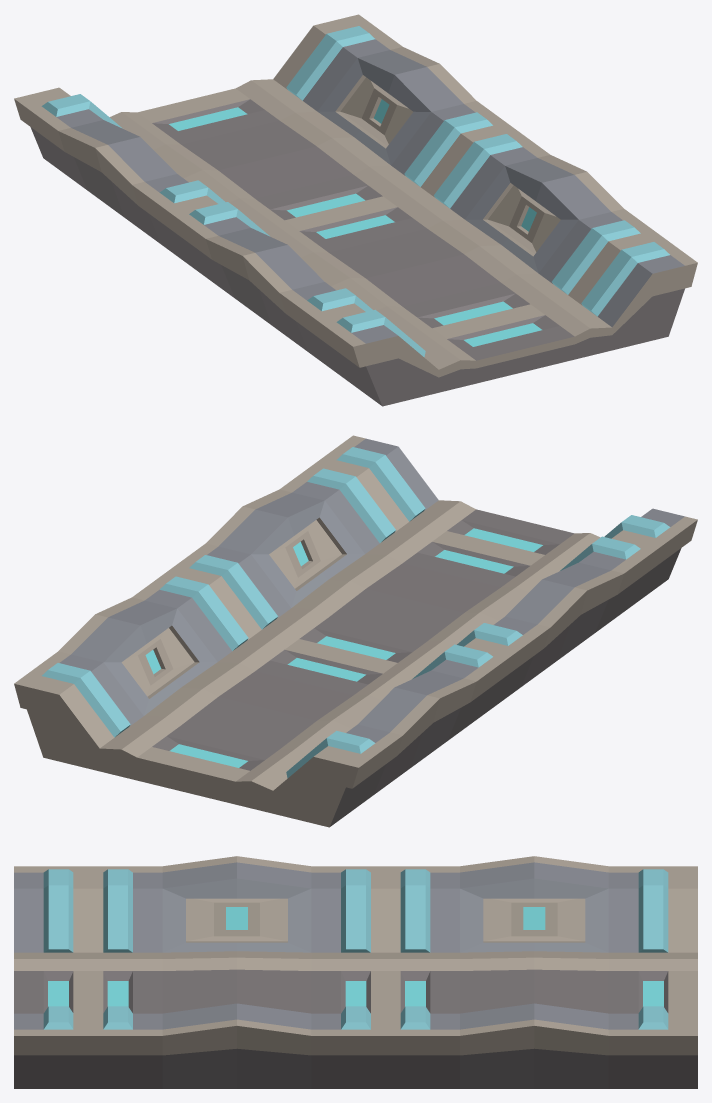
Rendered from Bridge.fbx.
The picture shows the model from 3 angles, top to bottom: view 1: azimuth 30°, elevation 25°; view 2: azimuth 150°, elevation 25°; view 3: azimuth 270°, elevation 25°; orthographic projection.
Visible parts, largest first — view 1: Bridge; view 2: Bridge; view 3: Bridge.
Part boxes in pixels (x1,y1,x2,y2): Bridge: (14,14,697,406); Bridge: (14,435,697,827); Bridge: (14,856,697,1088).
Size of the model in its own units: 5400 by 1150 by 9200.
